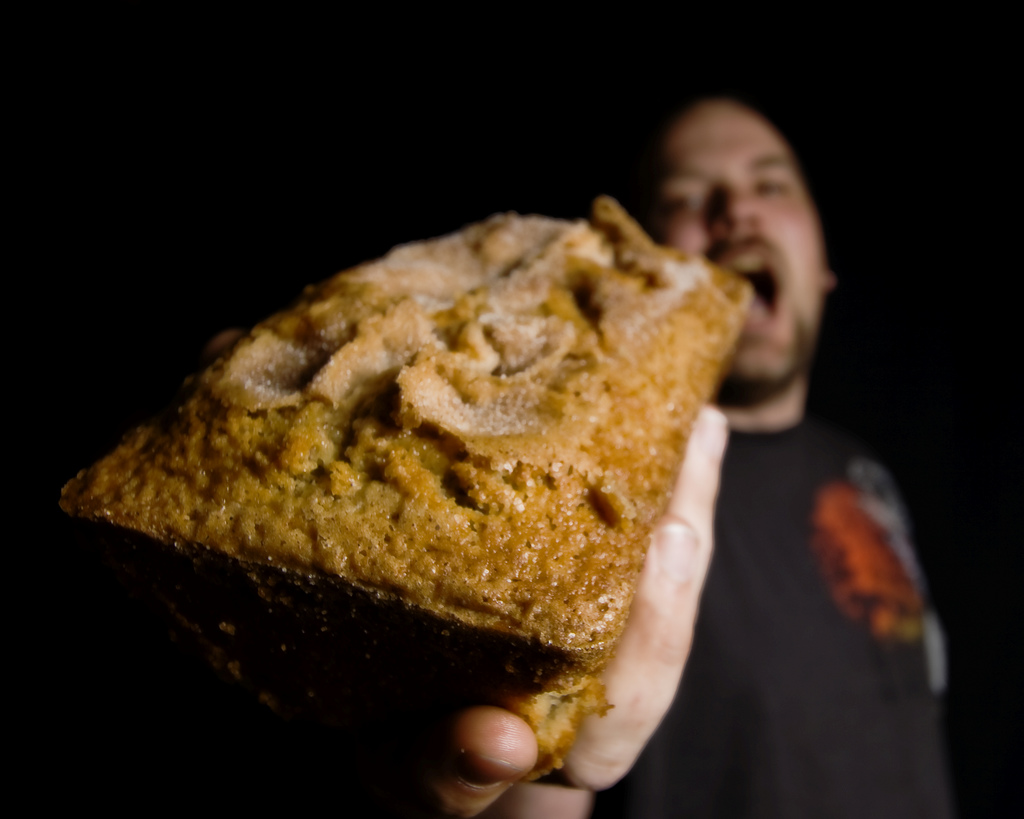slice of bread: (227, 296, 691, 634)
